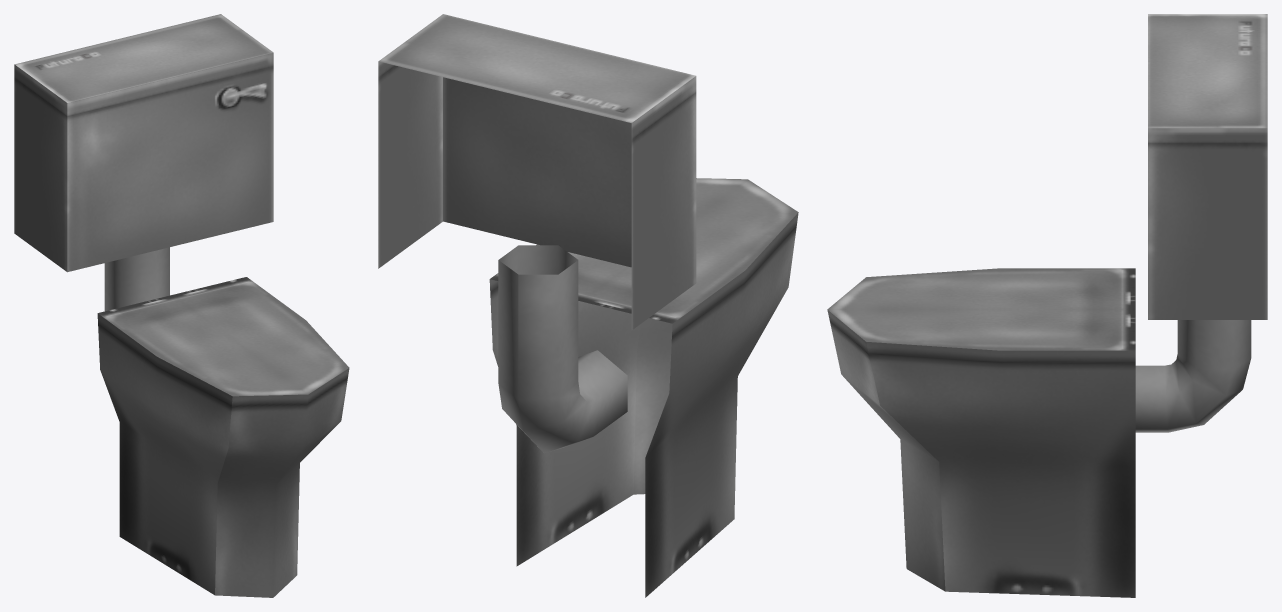
File: Toilet.FBX
3 views of the same model, side by side, from view 1: azimuth 30°, elevation 25°; view 2: azimuth 150°, elevation 25°; view 3: azimuth 270°, elevation 25° (orthographic). The views are drawn at different scales.
Parts seen in each view (by area): view 1: Toilet; view 2: Toilet; view 3: Toilet.
Part boxes in pixels (x1,y1,x2,y2): Toilet: [14, 14, 349, 597]; Toilet: [378, 14, 798, 597]; Toilet: [827, 14, 1267, 597].
Size of the model in its own units: 45.15 by 92.18 by 73.58.
